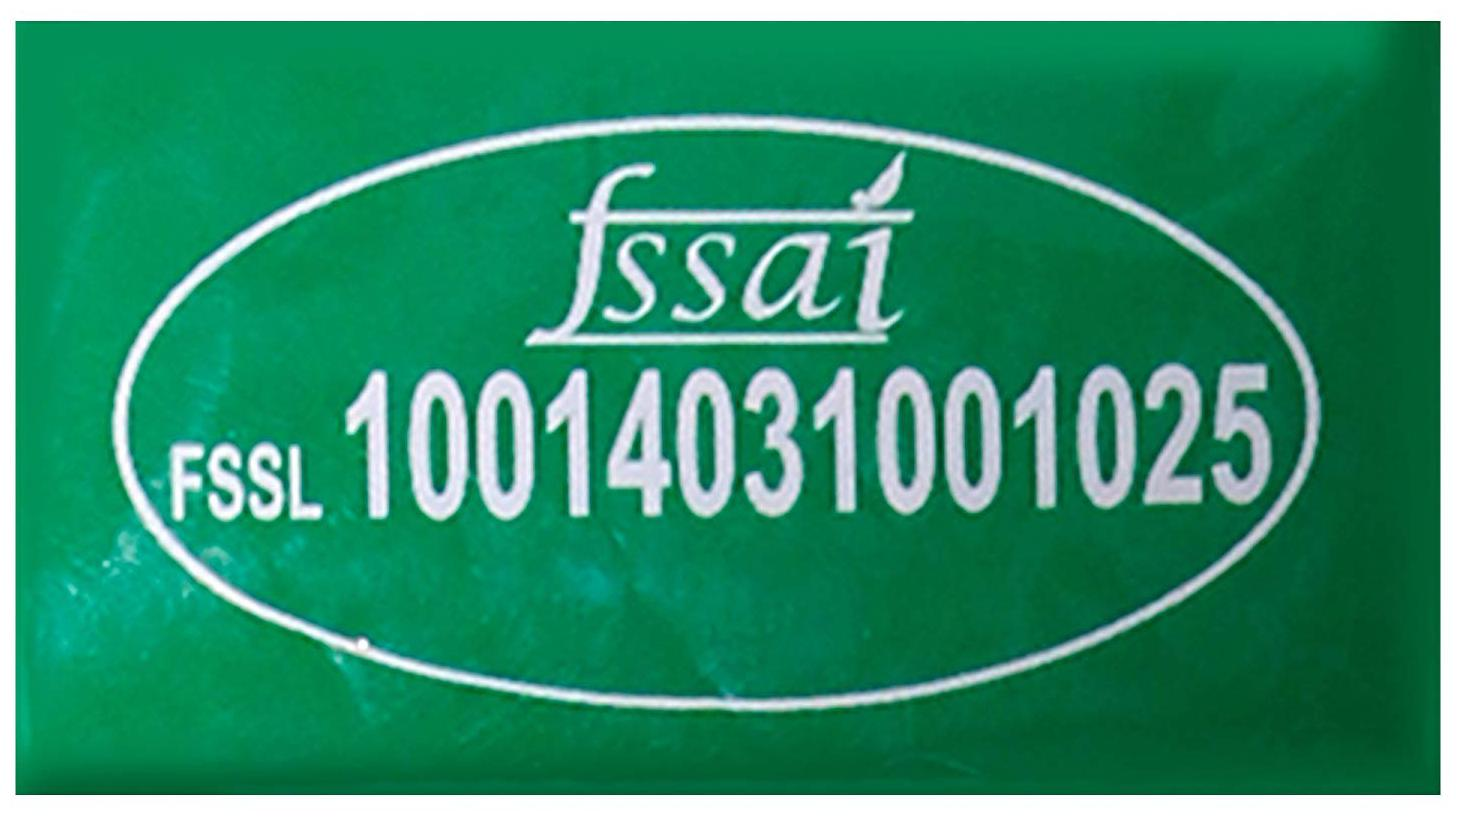fssai: (517, 143, 925, 357)
